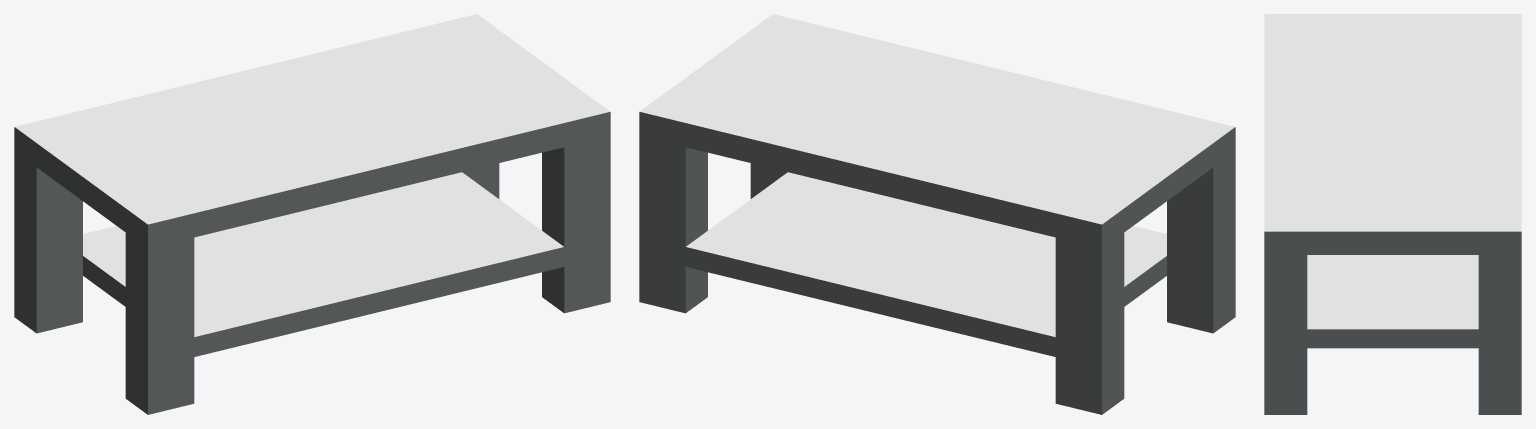
The model's file is TwoLayerTable.fbx.
3 renders of one model, left to right at view 1: azimuth 30°, elevation 25°; view 2: azimuth 150°, elevation 25°; view 3: azimuth 270°, elevation 25°, orthographic. The views are drawn at different scales.
Parts seen in each view (by area): view 1: pCube1; view 2: pCube1; view 3: pCube1.
Boxes of the visible parts, <box> form: pCube1: <box>14,14,610,414</box>; pCube1: <box>639,14,1235,414</box>; pCube1: <box>1264,14,1521,414</box>.
Bounding box in the file's own units: 100 × 39.33 × 50.
Materials: 1 (1 with a texture image).
